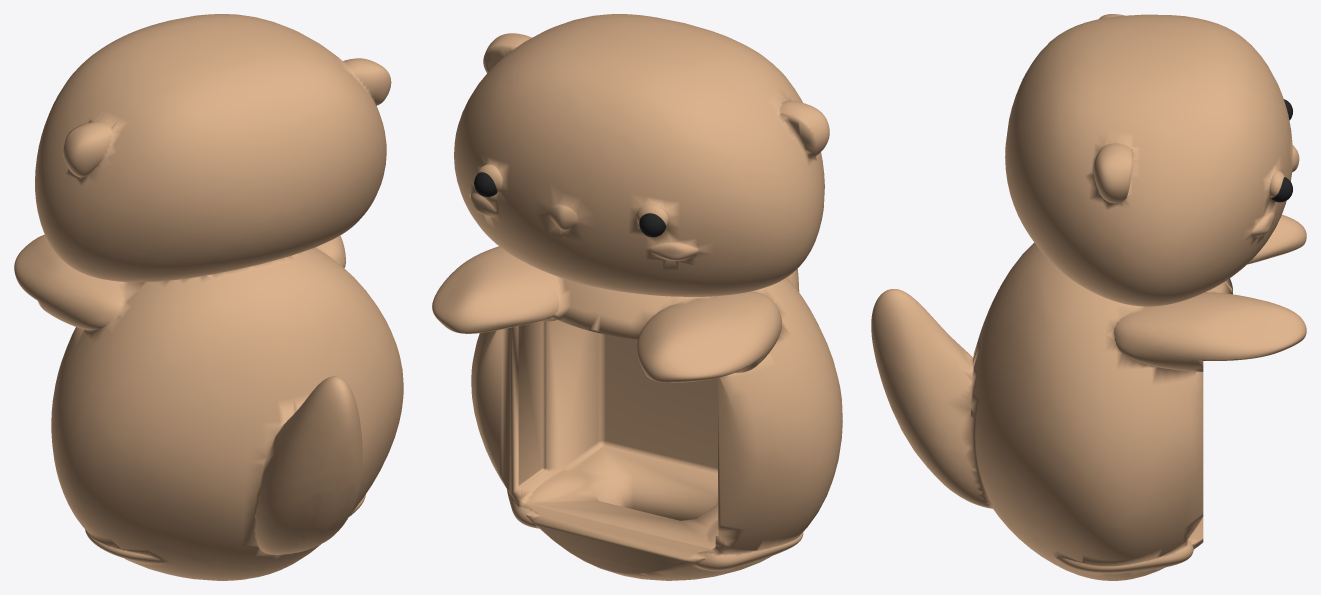
File: otter-charm.glb
The picture shows the model from 3 angles, left to right: view 1: azimuth 30°, elevation 25°; view 2: azimuth 150°, elevation 25°; view 3: azimuth 270°, elevation 25°; orthographic projection. The views are drawn at different scales.
Visible parts, largest first — view 1: Body; view 2: Body; view 3: Body.
Boxes of the visible parts, x1=… form: Body: x1=14, y1=14, x2=403, y2=580; Body: x1=432, y1=14, x2=842, y2=580; Body: x1=871, y1=14, x2=1306, y2=580.
Bounding box in the file's own units: 0.0407 × 0.0606 × 0.0462.
